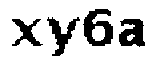6: (83, 7, 116, 51)
a: (116, 17, 149, 50)
x: (9, 13, 41, 49)
y: (46, 15, 81, 60)
